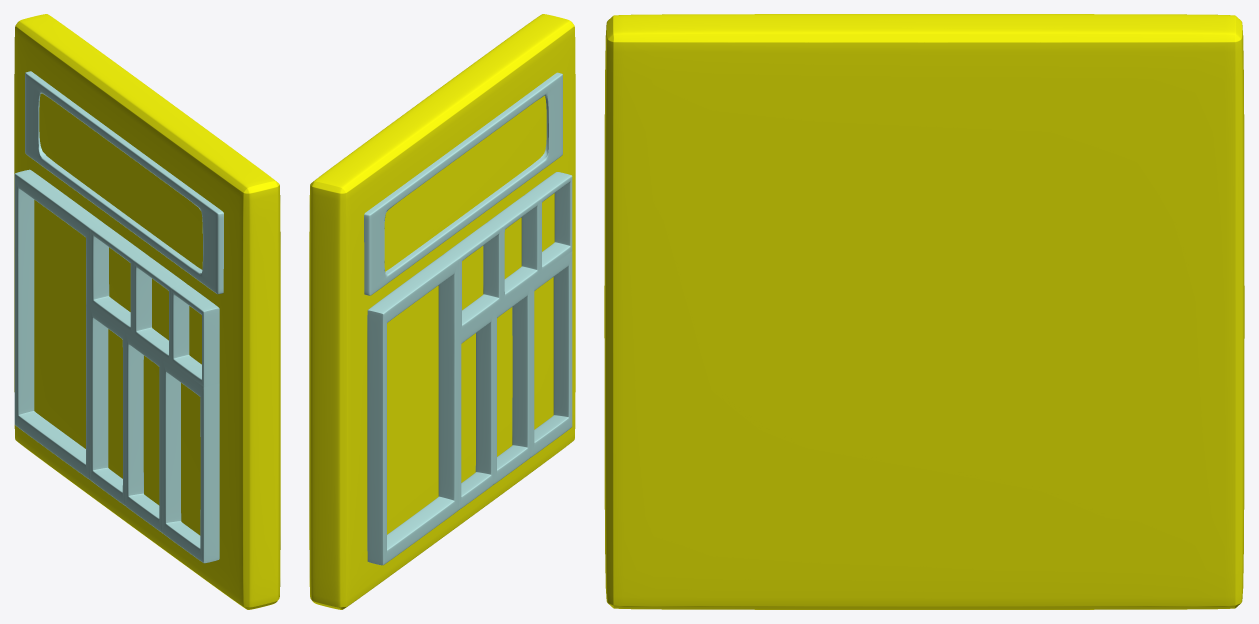
3 views of the same model, side by side, from view 1: azimuth 30°, elevation 25°; view 2: azimuth 150°, elevation 25°; view 3: azimuth 270°, elevation 25° (orthographic). The views are drawn at different scales.
Parts seen in each view (by area): view 1: polySurface1421; view 2: polySurface1421; view 3: polySurface1421.
Part boxes in pixels (box(x1,y1,x2,y2)): polySurface1421: box(14, 14, 280, 609); polySurface1421: box(309, 14, 575, 609); polySurface1421: box(604, 14, 1244, 609).
Bounding box in the file's own units: 0.1408 × 0.9995 × 0.9995.
